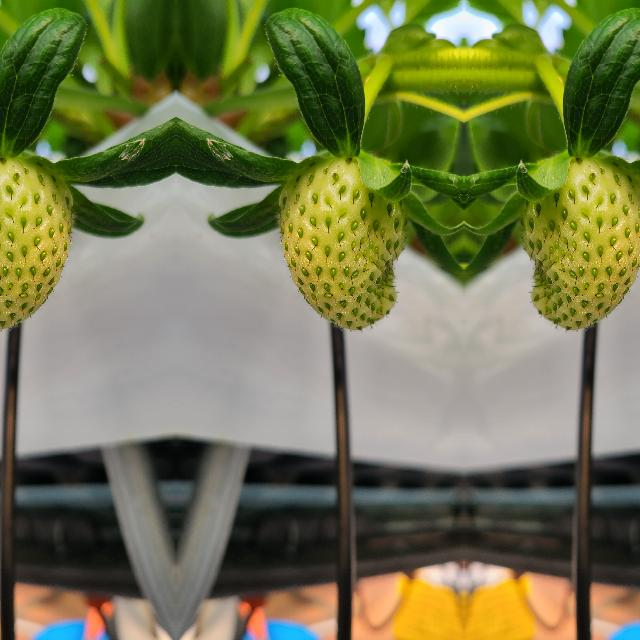Health_25: (272, 156, 408, 332), (518, 156, 640, 331), (0, 156, 77, 331)
